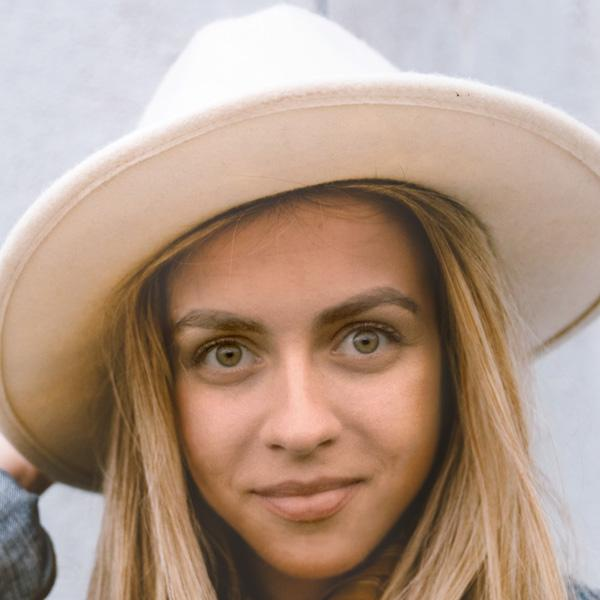Eyes: (321, 312, 416, 375), (184, 329, 275, 379)
